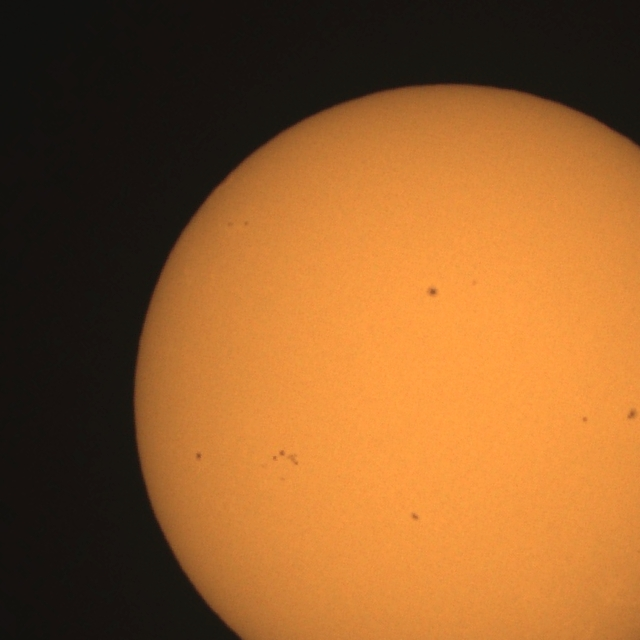sunspot: (272, 450, 298, 467), (227, 219, 248, 229), (625, 408, 639, 422), (426, 285, 439, 298), (410, 512, 420, 522), (195, 451, 203, 461), (582, 415, 589, 424), (227, 220, 234, 228), (471, 280, 478, 287), (243, 220, 249, 227)
